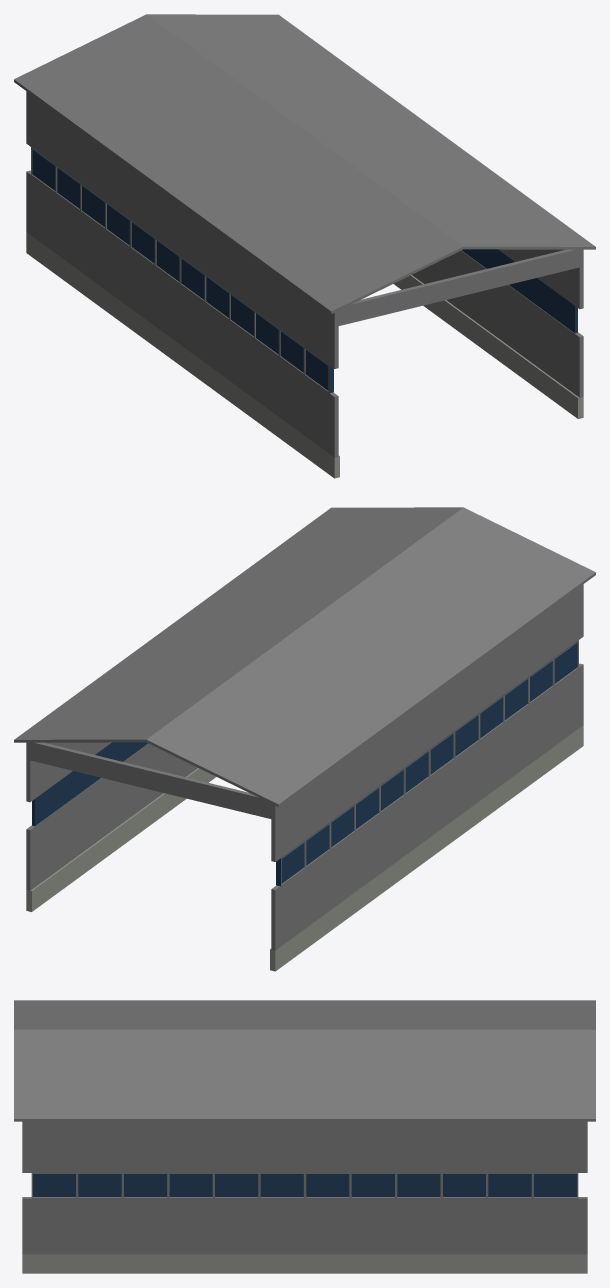
File: yard_shed_close.fbx
3 views of the same model, one above another, from view 1: azimuth 30°, elevation 25°; view 2: azimuth 150°, elevation 25°; view 3: azimuth 270°, elevation 25° (orthographic). The views are drawn at different scales.
Visible parts, largest first — view 1: a1060_YardShed.001; view 2: a1060_YardShed.001; view 3: a1060_YardShed.001.
Part boxes in pixels (bbox=[...]): a1060_YardShed.001: bbox=[14, 14, 595, 478]; a1060_YardShed.001: bbox=[14, 507, 595, 971]; a1060_YardShed.001: bbox=[14, 1000, 595, 1273].
Size of the model in its own units: 11.9 by 8.8 by 24.7.
